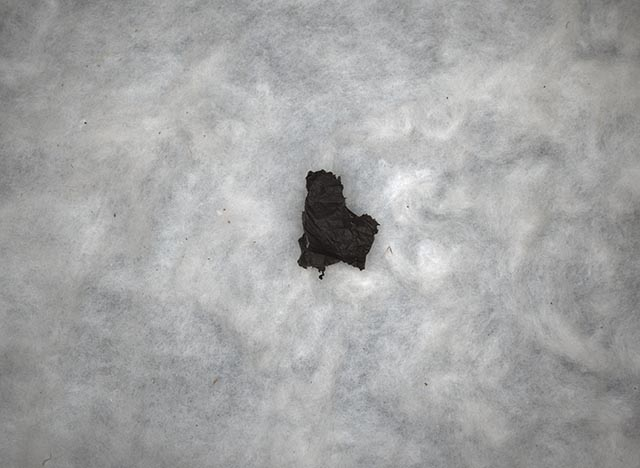plastic film: (297, 169, 381, 281)
